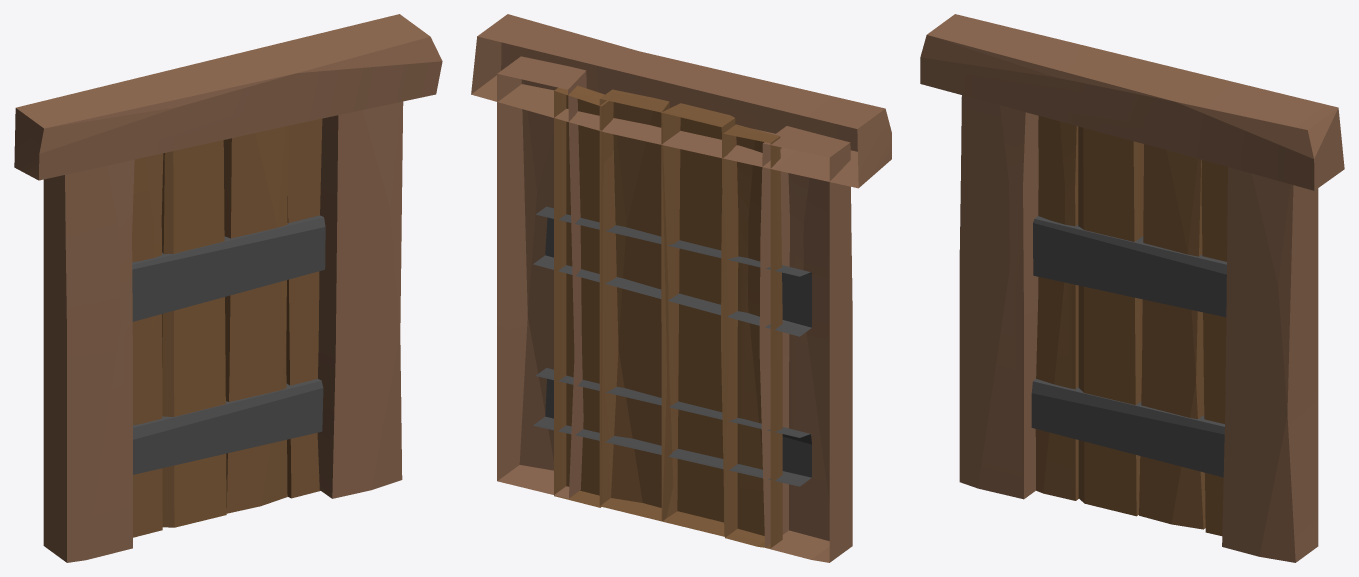
The model's file is House_Gate_D.fbx.
3 views of the same model, side by side, from view 1: azimuth 30°, elevation 25°; view 2: azimuth 150°, elevation 25°; view 3: azimuth 330°, elevation 25° (orthographic).
Parts seen in each view (by area): view 1: House_Gate_D; view 2: House_Gate_D; view 3: House_Gate_D.
Boxes of the visible parts, box(x1,y1,x2,y2) form: House_Gate_D: box(14, 14, 442, 562); House_Gate_D: box(471, 14, 891, 562); House_Gate_D: box(920, 14, 1344, 562).
Size of the model in its own units: 176 by 188 by 25.71.
